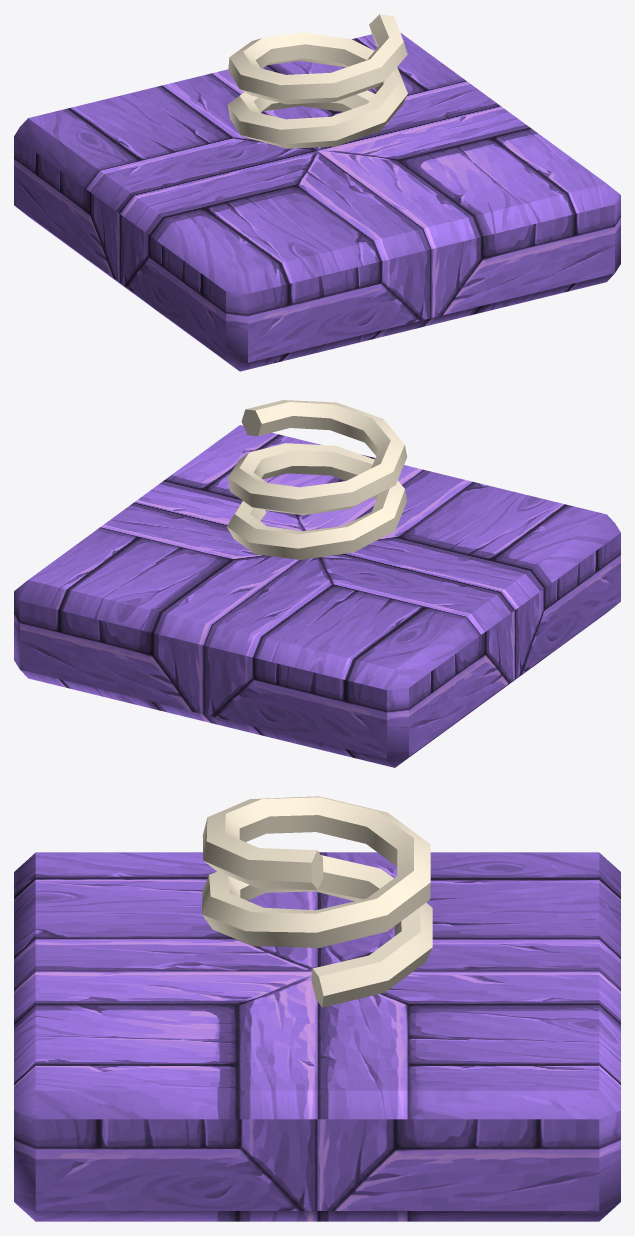
Rendered from tile_4.glb.
3 renders of one model, top to bottom at view 1: azimuth 30°, elevation 25°; view 2: azimuth 150°, elevation 25°; view 3: azimuth 270°, elevation 25°, orthographic. The views are drawn at different scales.
Parts seen in each view (by area): view 1: tile_4; view 2: tile_4; view 3: tile_4.
Part boxes in pixels (x1=…): tile_4: x1=14, y1=14, x2=620, y2=371; tile_4: x1=14, y1=400, x2=620, y2=767; tile_4: x1=14, y1=796, x2=620, y2=1221.
Size of the model in its own units: 0.84 by 0.4468 by 0.84.
2 materials, 1 textured.
